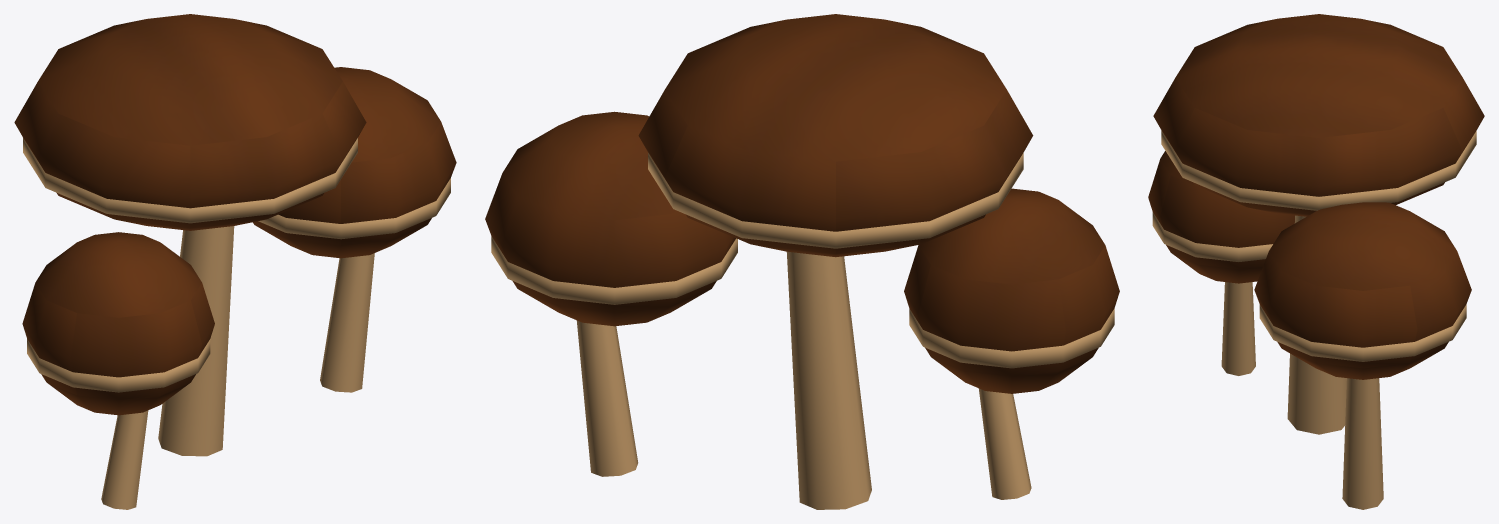
3 renders of one model, left to right at view 1: azimuth 30°, elevation 25°; view 2: azimuth 150°, elevation 25°; view 3: azimuth 270°, elevation 25°, orthographic. The views are drawn at different scales.
Visible parts, largest first — view 1: canopy-tiny-mushrooms · evaluated preview mesh; view 2: canopy-tiny-mushrooms · evaluated preview mesh; view 3: canopy-tiny-mushrooms · evaluated preview mesh.
Part boxes in pixels (x1=…): canopy-tiny-mushrooms · evaluated preview mesh: x1=14, y1=14, x2=456, y2=509; canopy-tiny-mushrooms · evaluated preview mesh: x1=485, y1=14, x2=1119, y2=509; canopy-tiny-mushrooms · evaluated preview mesh: x1=1148, y1=14, x2=1484, y2=509.
Size of the model in its own units: 0.6336 by 0.522 by 0.416.
2 materials, 1 textured.
